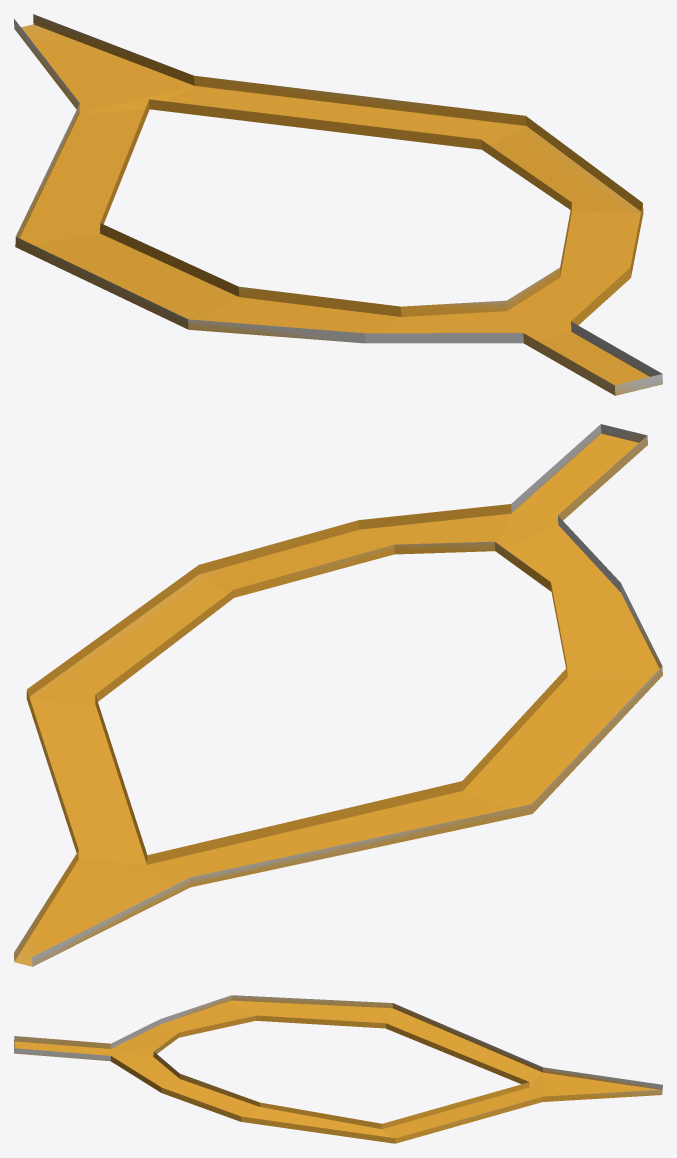
Rendered from Stage_Short_31.fbx.
3 views of the same model, one above another, from view 1: azimuth 30°, elevation 25°; view 2: azimuth 150°, elevation 25°; view 3: azimuth 270°, elevation 25° (orthographic). The views are drawn at different scales.
Visible parts, largest first — view 1: ground, wall; view 2: ground, wall; view 3: ground, wall.
Boxes of the visible parts, box(x1,y1,x2,y2) form: ground: box(19, 24, 649, 385); wall: box(14, 14, 662, 395); ground: box(14, 433, 659, 966); wall: box(14, 424, 662, 966); ground: box(14, 1000, 659, 1138); wall: box(14, 995, 662, 1143).
Bounding box in the file's own units: 64670 × 11557 × 134065.
Materials: 1 (1 with a texture image).
